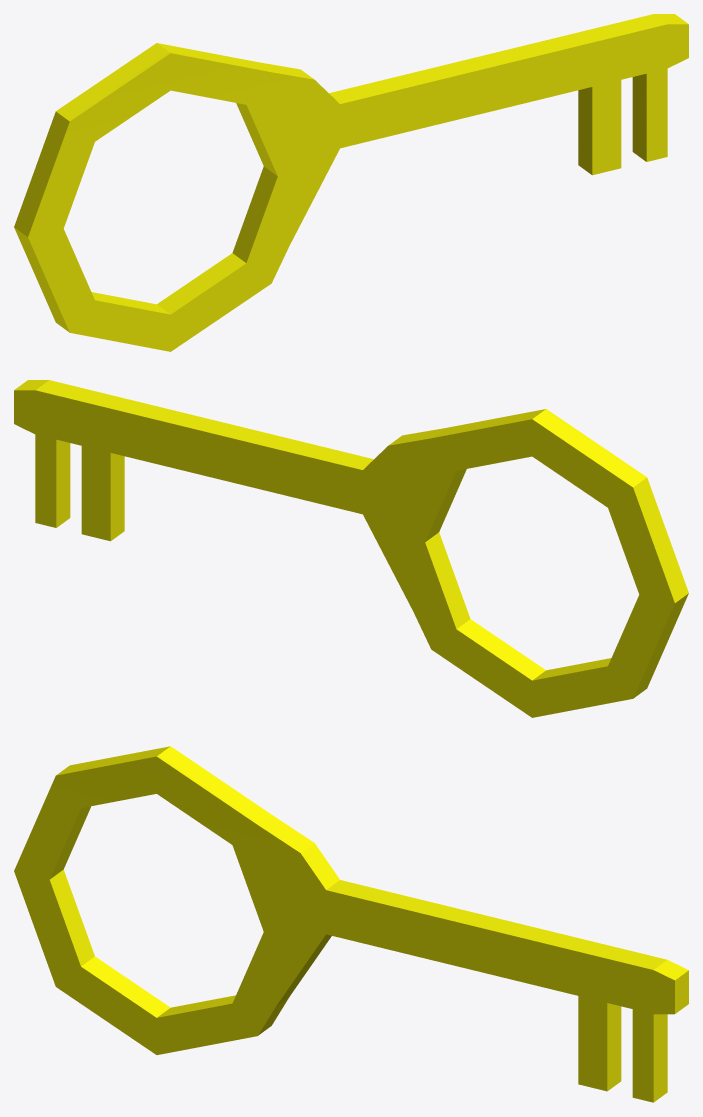
File: keyEXP.fbx
3 views of the same model, one above another, from view 1: azimuth 30°, elevation 25°; view 2: azimuth 150°, elevation 25°; view 3: azimuth 330°, elevation 25° (orthographic).
Parts seen in each view (by area): view 1: pCylinder1; view 2: pCylinder1; view 3: pCylinder1.
Boxes of the visible parts, left/top/right/bottom form: pCylinder1: left=14, top=14, right=688, bottom=351; pCylinder1: left=14, top=380, right=688, bottom=717; pCylinder1: left=14, top=746, right=688, bottom=1102.
Bounding box in the file's own units: 76.71 × 33.13 × 2.82.
